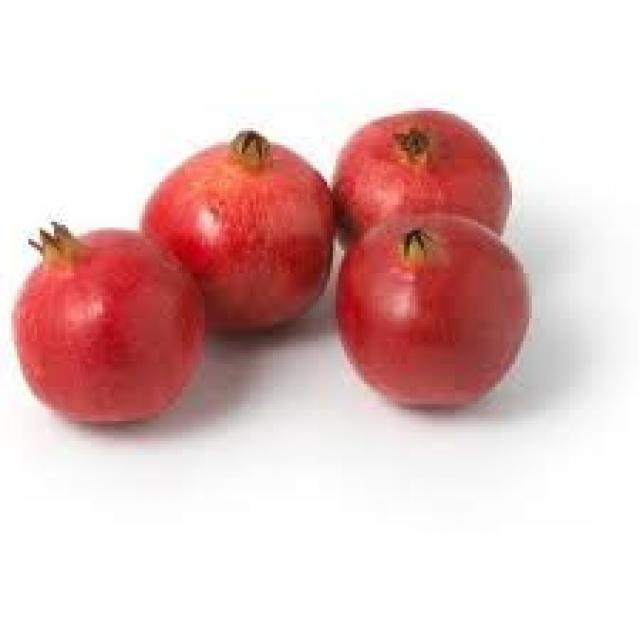pomegranate: (136, 125, 338, 339), (330, 210, 529, 416), (11, 219, 205, 424), (327, 102, 526, 242)
